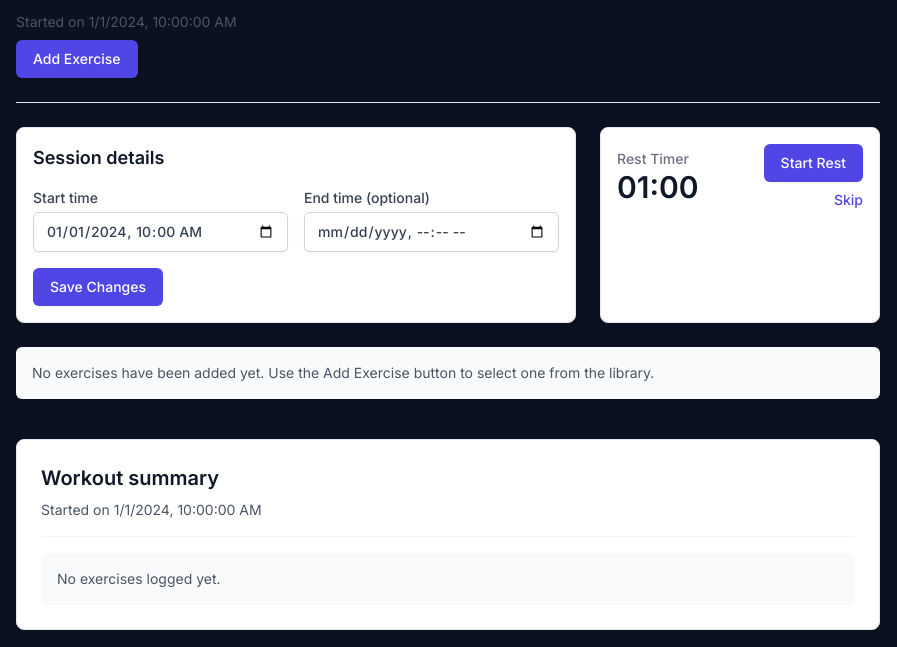
Test: WorkoutSessionPage › saves updated session times when submitting
The width and height of the screenshot is (897, 647).
Step 1. Replace the text in the field labelled "Start time" with "2024-01-01T11:30" → coordinates (160, 232), box [33,212,288,252]
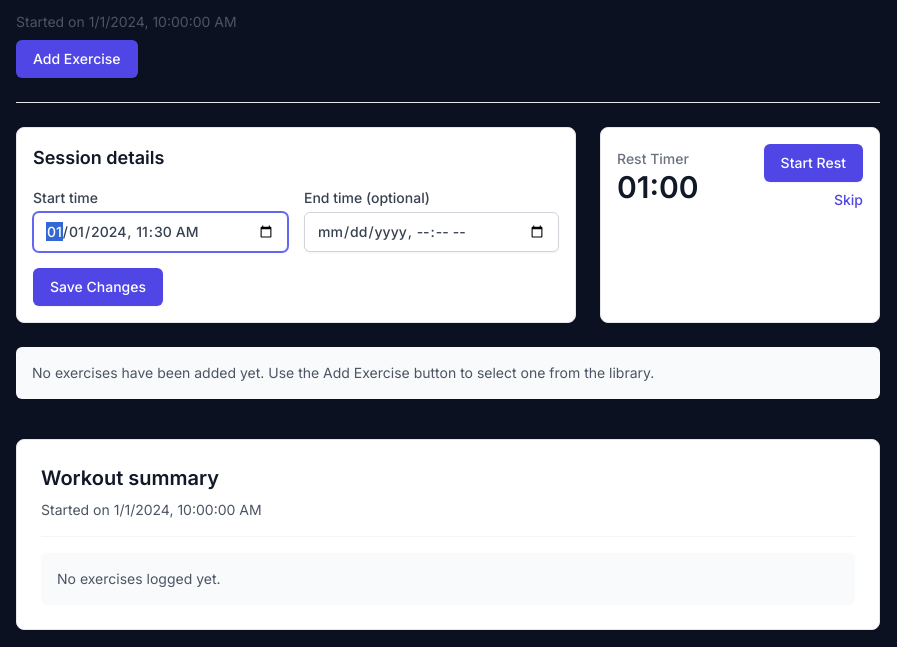
Step 2. Click the button "Save Changes" → coordinates (98, 287), box [33,268,163,306]
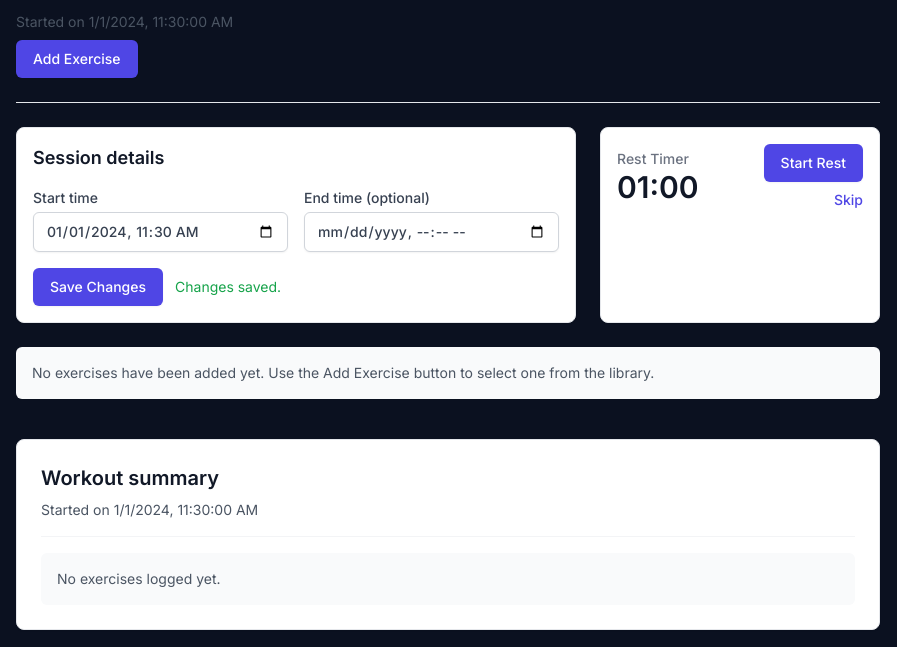
expect the text "Changes saved." is shown: met, box [175,277,281,297]
